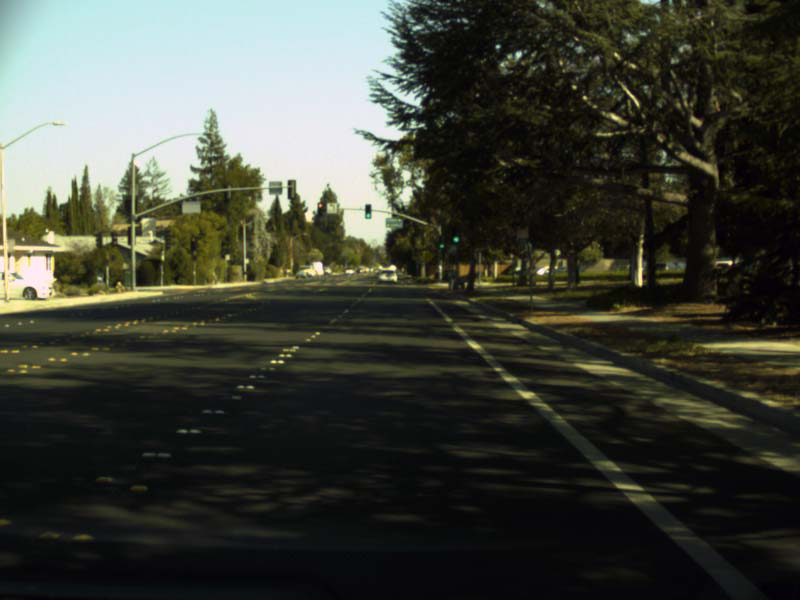Green: (365, 204, 370, 217), (439, 236, 443, 248), (452, 235, 458, 242)
Red: (318, 203, 322, 216)
